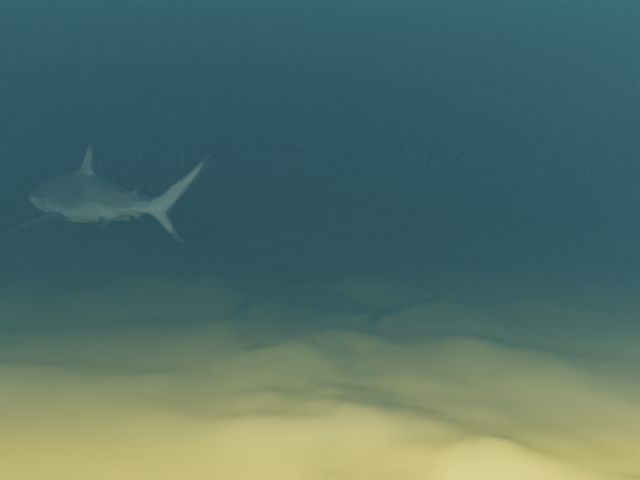Carribean Shark.001: (7, 141, 210, 243)
